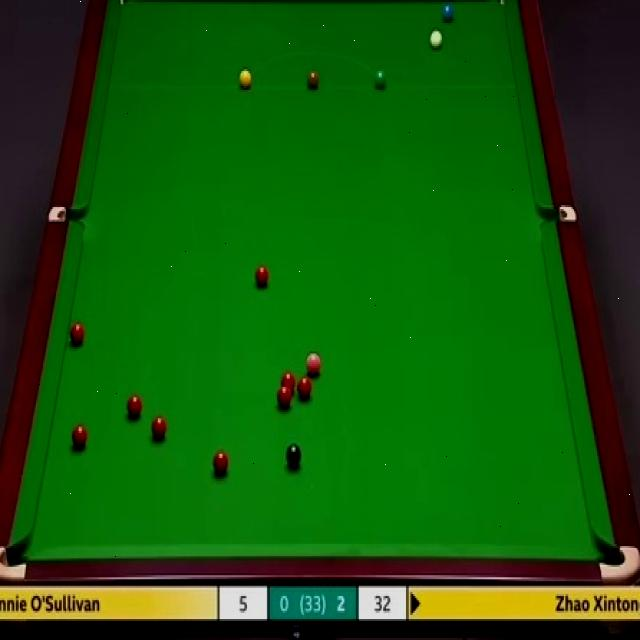black-ball: (285, 443, 303, 470)
blue-ball: (439, 0, 455, 23)
brown-ball: (306, 70, 321, 91)
green-ball: (373, 69, 388, 92)
pink-ball: (302, 352, 322, 378)
red-ball: (70, 423, 88, 452), (150, 415, 168, 441), (212, 449, 229, 476), (254, 263, 271, 289), (126, 395, 142, 422), (68, 321, 84, 347), (296, 375, 313, 399), (279, 371, 297, 393), (276, 386, 292, 410)
white-ball: (429, 26, 445, 51)
yellow-ball: (238, 68, 252, 90)
